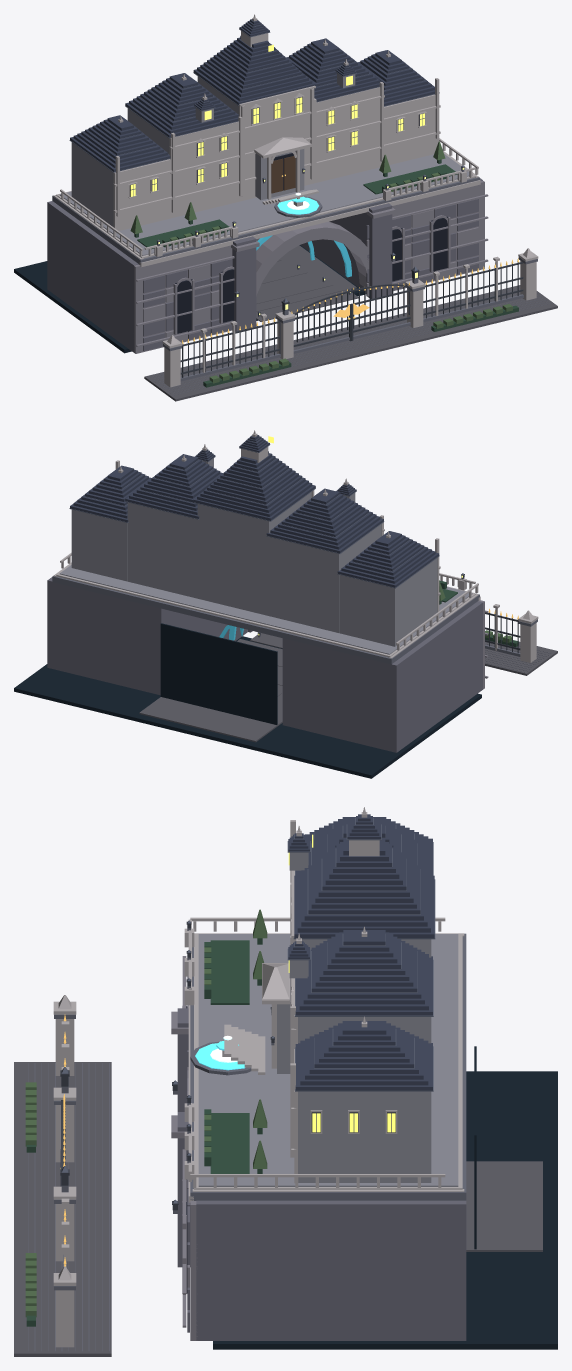
File: batcave_exterior_8bit.glb
3 renders of one model, top to bottom at view 1: azimuth 30°, elevation 25°; view 2: azimuth 150°, elevation 25°; view 3: azimuth 270°, elevation 25°, orthographic. The views are drawn at different scales.
Parts seen in each view (by area): view 1: SM_Batcave_Manor, SM_Batcave_CaveAndCliff, SM_Batcave_ForegroundGate, SM_Batcave_TerraceGarden, SM_Batcave_Props; view 2: SM_Batcave_Manor, SM_Batcave_CaveAndCliff, SM_Batcave_ForegroundGate, SM_Batcave_TerraceGarden; view 3: SM_Batcave_Manor, SM_Batcave_CaveAndCliff, SM_Batcave_ForegroundGate, SM_Batcave_TerraceGarden, SM_Batcave_Props.
Boxes of the visible parts, box(x1,y1,x2,y2) form: SM_Batcave_Manor: box(52, 14, 480, 267); SM_Batcave_CaveAndCliff: box(14, 178, 488, 353); SM_Batcave_ForegroundGate: box(144, 248, 557, 401); SM_Batcave_TerraceGarden: box(130, 141, 518, 387); SM_Batcave_Props: box(157, 165, 464, 316); SM_Batcave_Manor: box(52, 430, 480, 664); SM_Batcave_CaveAndCliff: box(14, 577, 488, 778); SM_Batcave_ForegroundGate: box(485, 604, 557, 675); SM_Batcave_TerraceGarden: box(439, 580, 518, 647); SM_Batcave_Manor: box(184, 807, 466, 1202); SM_Batcave_CaveAndCliff: box(171, 956, 557, 1349); SM_Batcave_ForegroundGate: box(14, 995, 111, 1356); SM_Batcave_TerraceGarden: box(25, 909, 267, 1326); SM_Batcave_Props: box(60, 920, 274, 1213).
Size of the model in its own units: 46 by 29.85 by 36.25.
